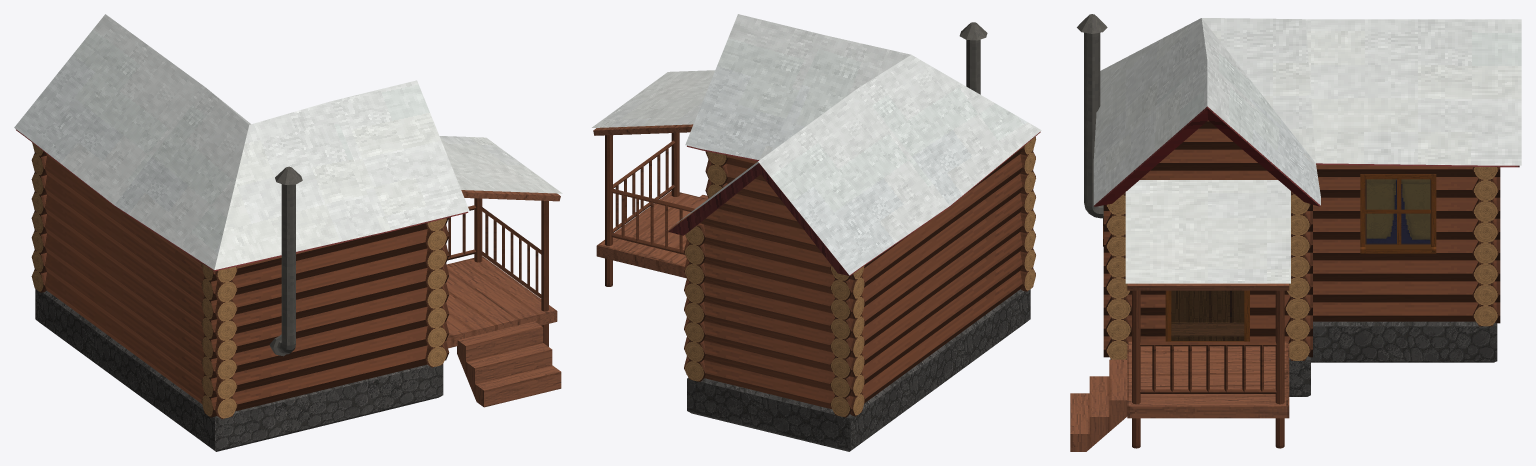
Rendered from CabinTiny.glb.
3 views of the same model, side by side, from view 1: azimuth 30°, elevation 25°; view 2: azimuth 150°, elevation 25°; view 3: azimuth 270°, elevation 25° (orthographic). The views are drawn at different scales.
Visible parts, largest first — view 1: Cube.014; view 2: Cube.014; view 3: Cube.014.
Part boxes in pixels (box(x1,y1,x2,y2)): Cube.014: box(14, 14, 562, 451); Cube.014: box(592, 14, 1041, 451); Cube.014: box(1070, 14, 1521, 451).
Size of the model in its own units: 34.1 by 25.12 by 33.89.
9 materials, 9 textured.
